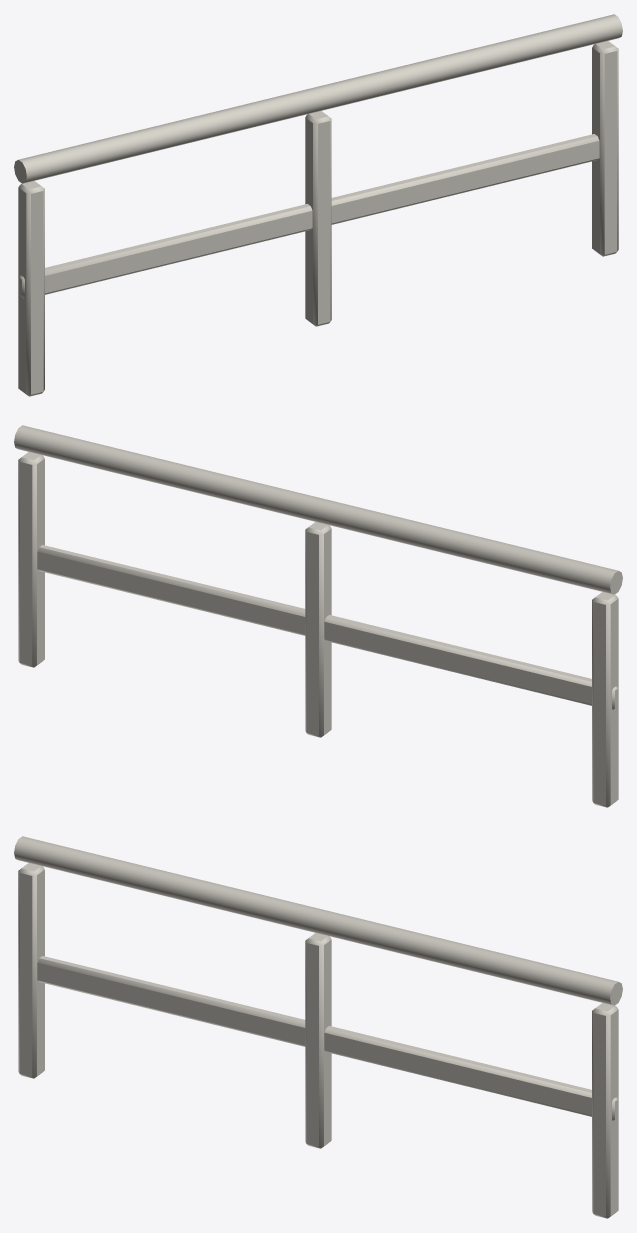
The model's file is 151_barriere_piste.fbx.
3 views of the same model, one above another, from view 1: azimuth 30°, elevation 25°; view 2: azimuth 150°, elevation 25°; view 3: azimuth 330°, elevation 25° (orthographic).
Visible parts, largest first — view 1: Barriere; view 2: Barriere; view 3: Barriere.
Boxes of the visible parts, left/top/right/bottom form: Barriere: left=14, top=14, right=622, bottom=396; Barriere: left=14, top=425, right=622, bottom=807; Barriere: left=14, top=836, right=622, bottom=1218.
Size of the model in its own units: 2.24 by 0.84 by 0.084.
Materials: 1 (1 with a texture image).
